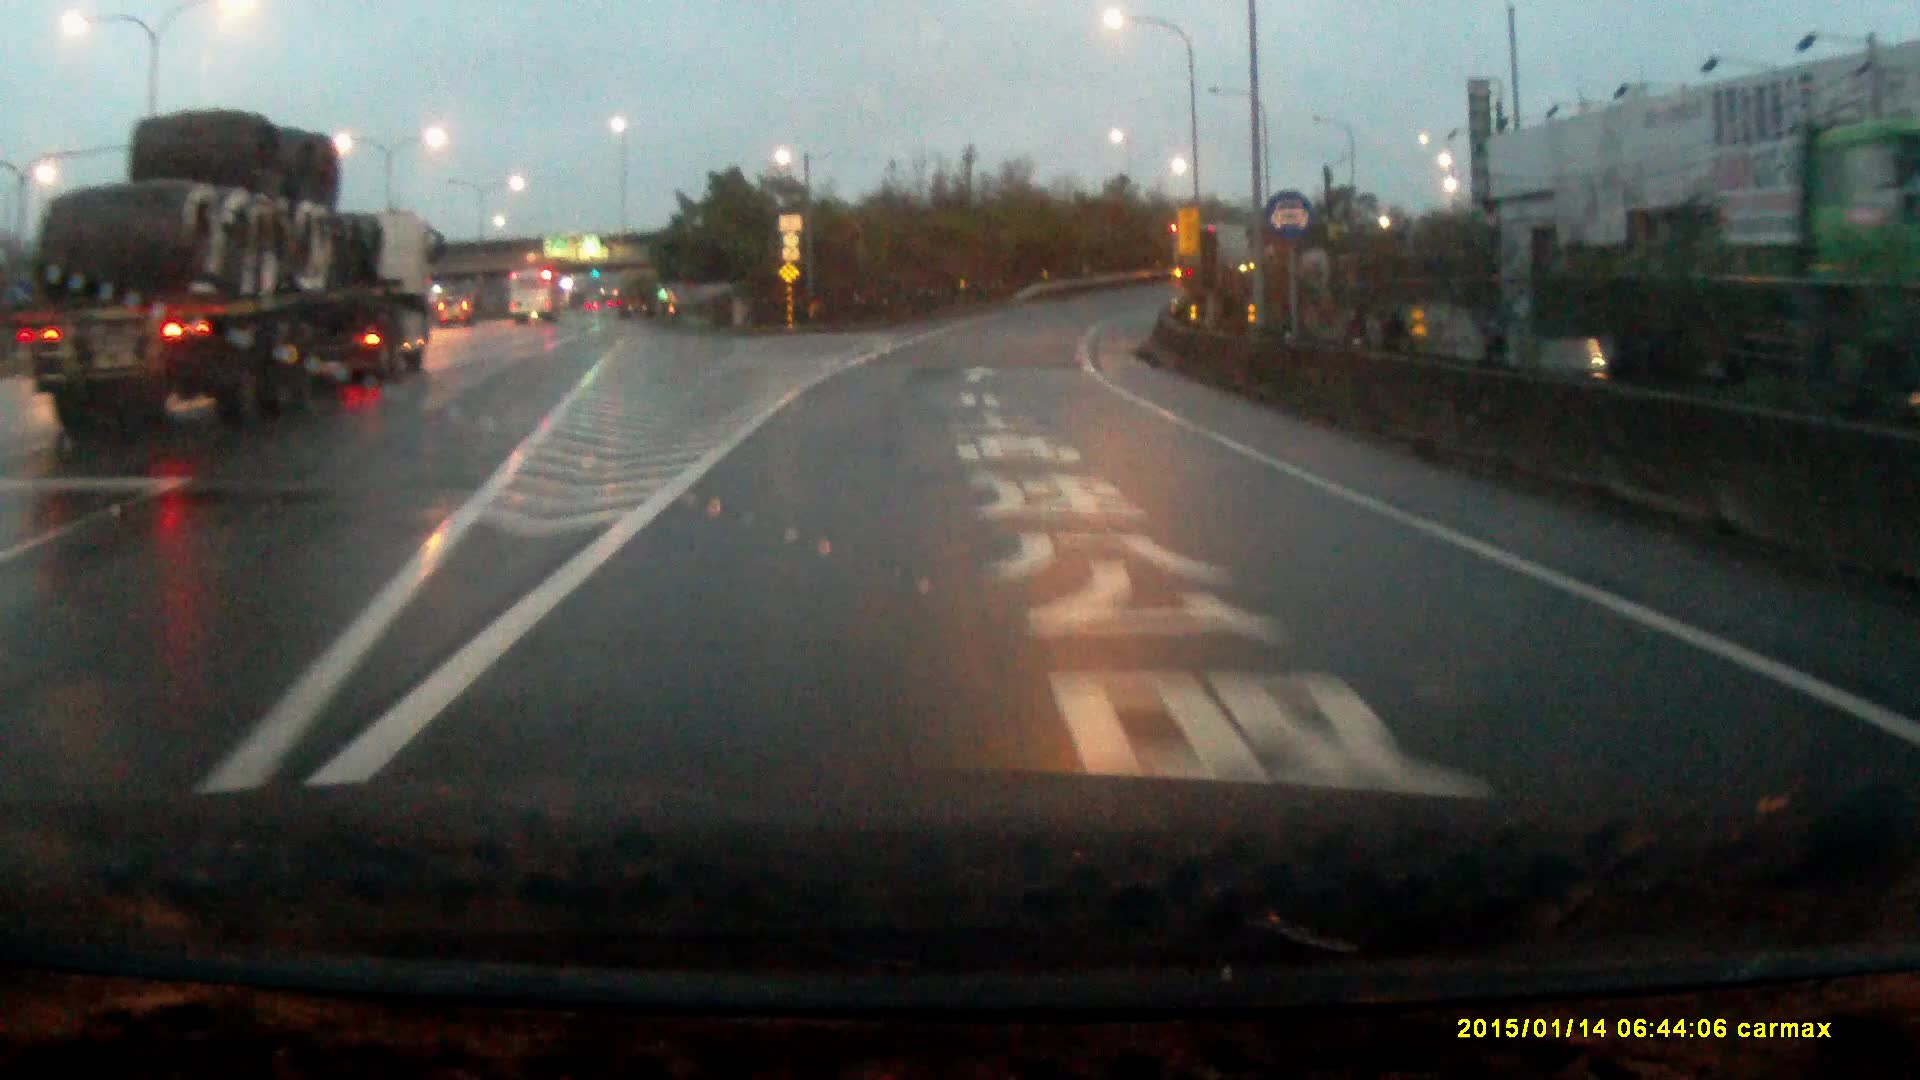vehicle: (34, 111, 440, 427), (509, 272, 567, 328), (438, 298, 476, 331)
